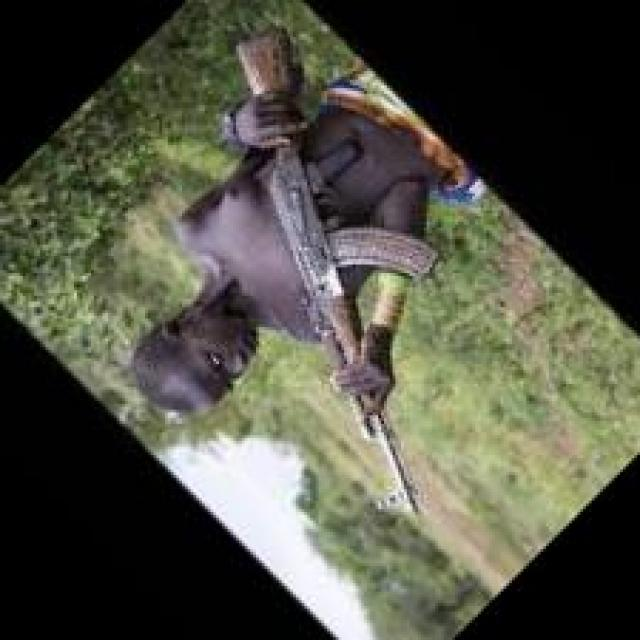weapon: (237, 26, 440, 518)
